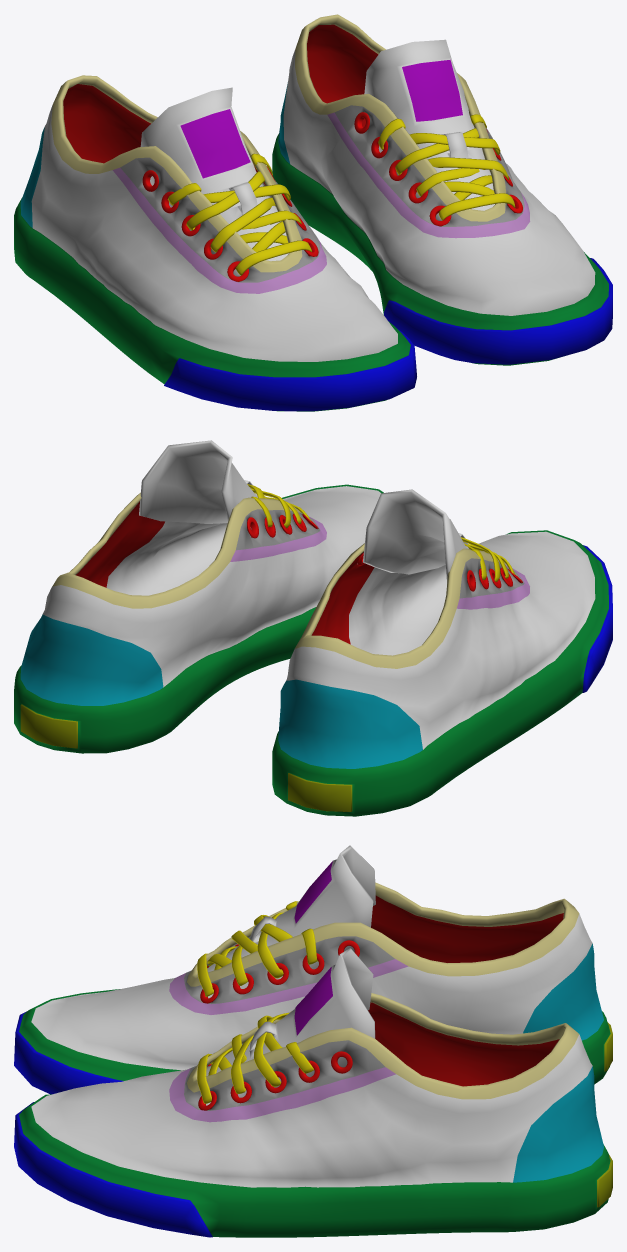
3 renders of one model, top to bottom at view 1: azimuth 30°, elevation 25°; view 2: azimuth 150°, elevation 25°; view 3: azimuth 270°, elevation 25°, orthographic. The views are drawn at different scales.
Visible parts, largest first — view 1: right (×2); view 2: right (×2); view 3: right (×2).
Part boxes in pixels (box(x1,y1,x2,y2)): right (×2): box(14, 14, 612, 411); right (×2): box(14, 440, 612, 816); right (×2): box(14, 845, 612, 1237).
Bounding box in the file's own units: 1.68 × 0.8553 × 2.
